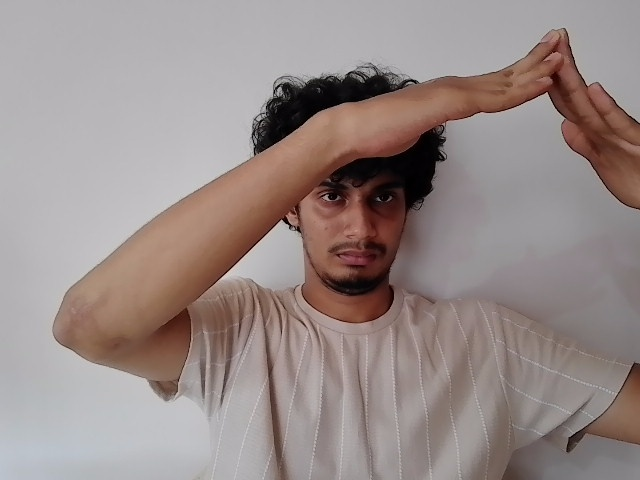home: (350, 31, 640, 212)
